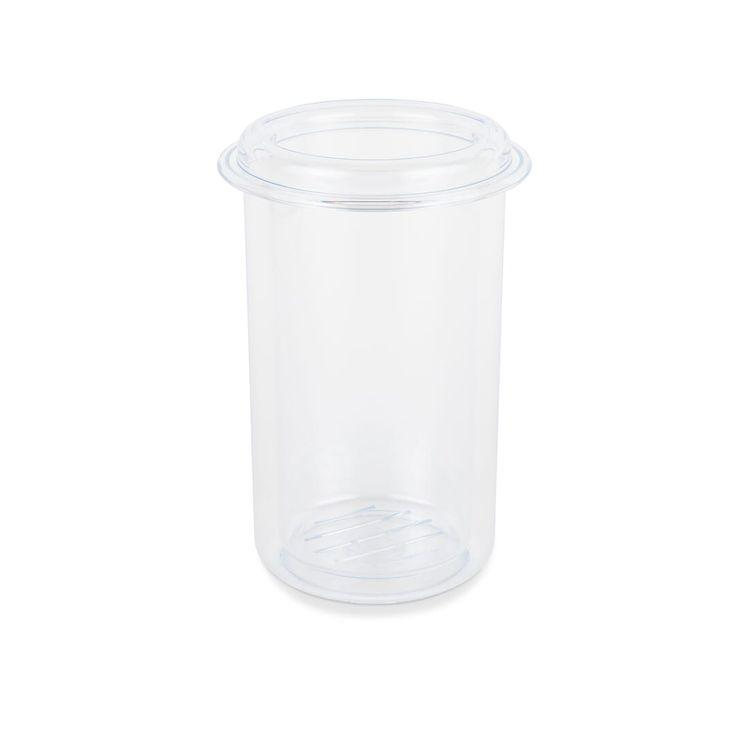PS: (215, 94, 529, 614)
